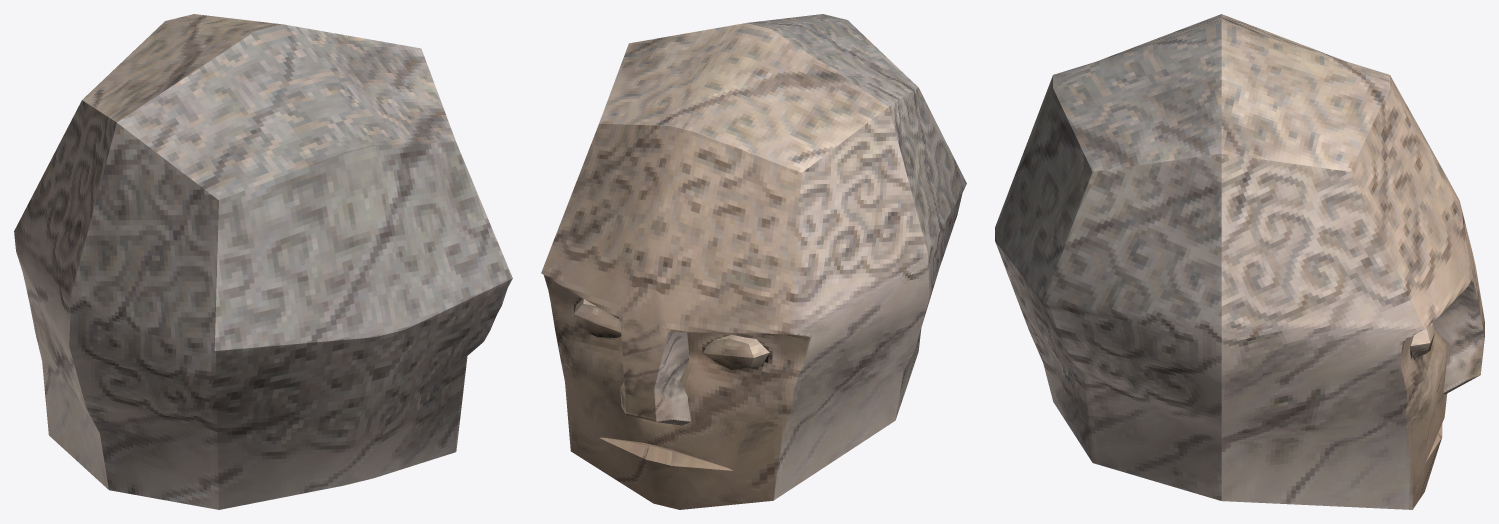
Rendered from Marble_Head_2.fbx.
3 renders of one model, left to right at view 1: azimuth 30°, elevation 25°; view 2: azimuth 150°, elevation 25°; view 3: azimuth 270°, elevation 25°, orthographic. The views are drawn at different scales.
Parts seen in each view (by area): view 1: Box001; view 2: Box001; view 3: Box001.
Boxes of the visible parts, bbox=[...] form: Box001: bbox=[14, 14, 512, 509]; Box001: bbox=[541, 14, 966, 509]; Box001: bbox=[995, 14, 1484, 509].
Size of the model in its own units: 3.7 by 4.28 by 4.18.
Materials: 1 (1 with a texture image).
